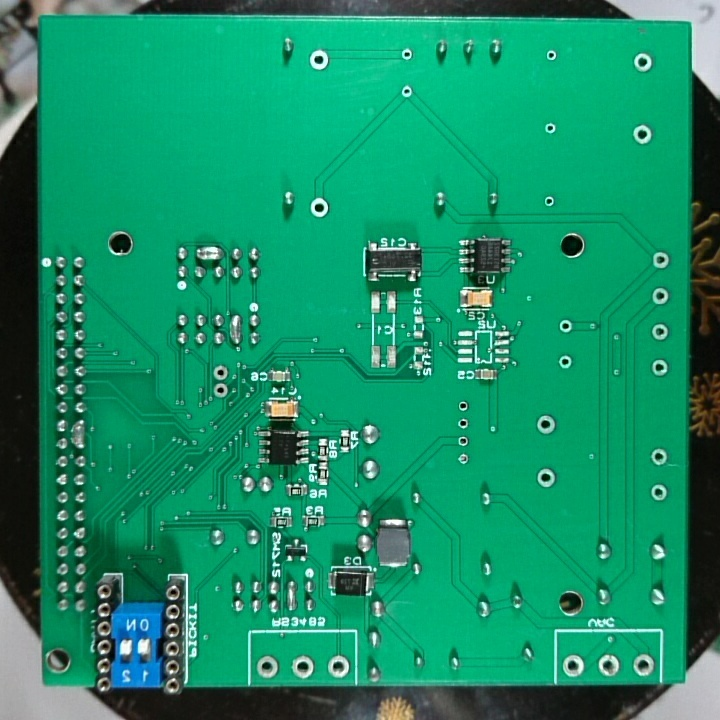F: (324, 654, 352, 680), (630, 652, 656, 679), (561, 652, 586, 680), (291, 652, 315, 681), (255, 653, 279, 681), (596, 653, 622, 678), (534, 466, 559, 492), (308, 47, 332, 74), (631, 50, 655, 75), (534, 414, 559, 438), (650, 320, 671, 346), (632, 123, 655, 146), (651, 286, 674, 309), (651, 249, 671, 274), (648, 447, 670, 468), (308, 197, 331, 217), (650, 357, 670, 380), (650, 482, 668, 504), (211, 380, 230, 400), (556, 353, 574, 373), (210, 363, 229, 381), (557, 318, 574, 338), (398, 45, 416, 63), (455, 415, 473, 433), (399, 83, 416, 102), (544, 46, 560, 66), (542, 120, 559, 138), (455, 397, 472, 415), (455, 449, 470, 469), (543, 194, 559, 210), (456, 433, 471, 449)
P: (193, 243, 225, 265), (226, 311, 244, 347), (282, 578, 299, 614), (70, 417, 85, 450)
